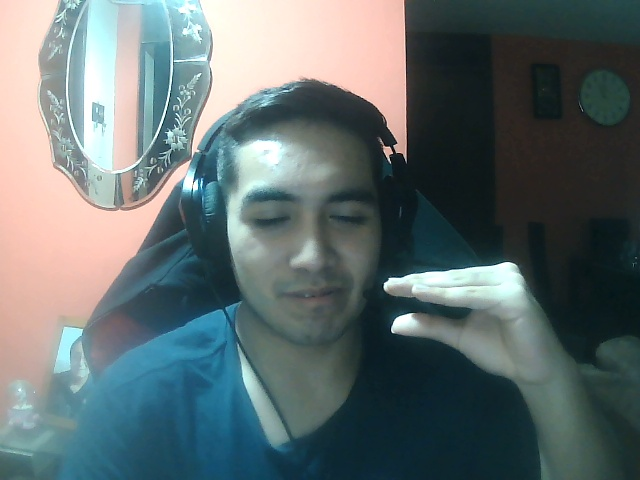no: (378, 256, 575, 381)
